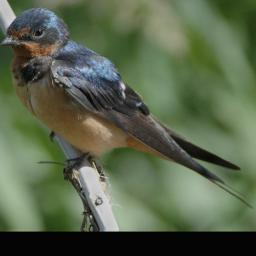Swallow: (0, 6, 256, 212)
